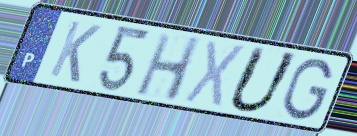5: (98, 22, 153, 93)
G: (281, 56, 335, 122)
H: (133, 32, 205, 104)
K: (46, 18, 104, 86)
U: (225, 43, 303, 115)
X: (181, 38, 249, 111)
